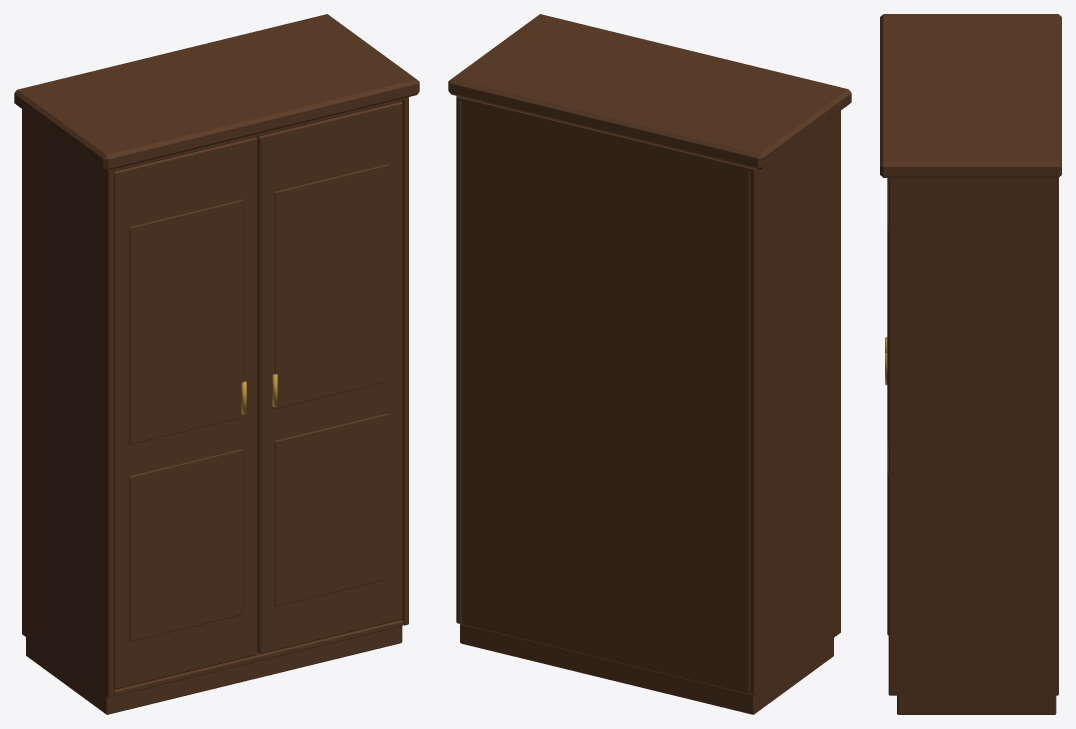
Rendered from GuardaRoupa.fbx.
3 views of the same model, side by side, from view 1: azimuth 30°, elevation 25°; view 2: azimuth 150°, elevation 25°; view 3: azimuth 270°, elevation 25° (orthographic).
Visible parts, largest first — view 1: GuardaRoupa, GuardaRoupa_Porta_D, GuardaRoupa_Porta_E; view 2: GuardaRoupa; view 3: GuardaRoupa, GuardaRoupa_Porta_D.
Part boxes in pixels (x1,y1,x2,y2): GuardaRoupa: (14,14,419,714); GuardaRoupa_Porta_D: (257,101,402,653); GuardaRoupa_Porta_E: (113,137,257,689); GuardaRoupa: (448,14,851,714); GuardaRoupa: (880,14,1061,714); GuardaRoupa_Porta_D: (885,178,888,635).
Bounding box in the file's own units: 1.26 × 2.16 × 0.64.
